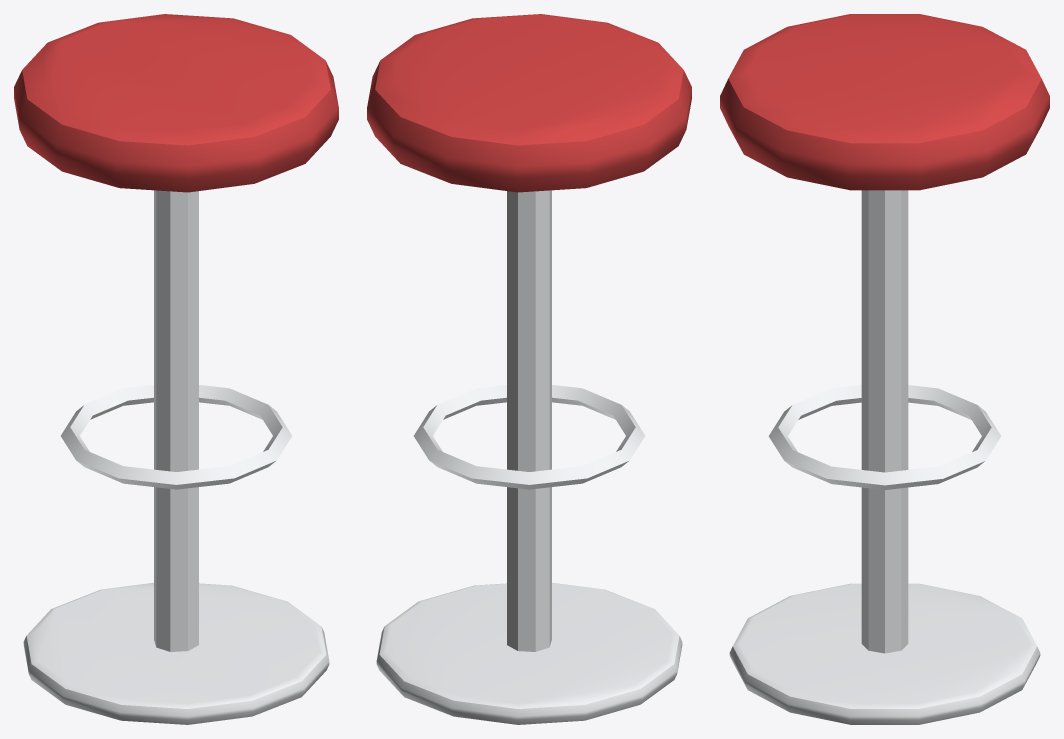
Rendered from BarStool.fbx.
3 views of the same model, side by side, from view 1: azimuth 30°, elevation 25°; view 2: azimuth 150°, elevation 25°; view 3: azimuth 270°, elevation 25° (orthographic).
Visible parts, largest first — view 1: BarStool; view 2: BarStool; view 3: BarStool.
Part boxes in pixels (box(x1,y1,x2,y2)): BarStool: box(14, 14, 338, 724); BarStool: box(367, 14, 691, 724); BarStool: box(720, 14, 1049, 724).
Size of the model in its own units: 1.66 by 3.38 by 1.7.
Materials: 1 (1 with a texture image).
